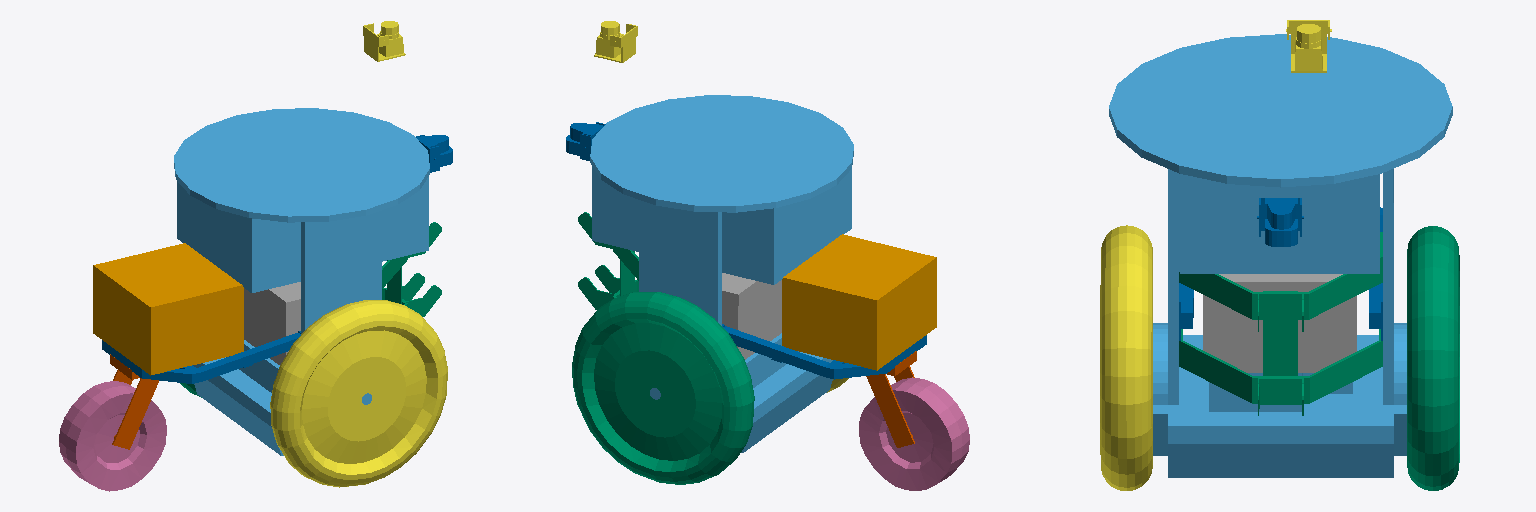
robot.urdf — base:
<?xml version="1.0"?>
<robot name="base"
       xmlns:sensor="http://playerstage.sourceforge.net/gazebo/xmlschema/#sensor" 
       xmlns:controller="http://playerstage.sourceforge.net/gazebo/xmlschema/#controller"
       xmlns:xacro="http://ros.org/wiki/fixme"
       xmlns:interface="http://playerstage.sourceforge.net/gazebo/xmlschema/#interface">>  

<!-- JOINT LIMIT VALUES FOR EFFORT AND VELOCITY NEED TO BE ADDED FOR REVOLUTE AND CONTINUOUS JOINTS -->

  <!-- base_footprint is a fictitious link(frame) that is on the ground right below base_link origin,
       navigation stack dedpends on this frame -->
  <link name="base_footprint">
    <inertial>
      <mass value="0.000001" />
      <origin xyz="0 0 0" />
      <inertia ixx="0.01" ixy="0.0" ixz="0.0"
               iyy="0.01" iyz="0.0" izz="0.01" />
    </inertial>
    <visual>
      <origin xyz="0 0 0" rpy="0 0 0" />
      <geometry>
        <box size="0.0 0.0 0.0" />
      </geometry>
      
      <material name="Green" />
    </visual>
    <collision>
      <!-- represent base collision with a simple rectangular model, positioned by base_size_z s.t. top
           surface of the collision box matches the top surface of the PR2 base -->
      <origin xyz="0 0 0" rpy="0 0 0" />
      <geometry>
        <box size="0.00 0.00 0.00" />
      </geometry>
    </collision>
  </link>

  <!-- Base -->

  <!-- Links -->
  <link name="base_link">        
    <inertial>
      <origin xyz="0 -0.3 0" rpy="0 0 0" />
      <mass value="90.72"/>
      <inertia ixx="1.2285"  ixy="0"  ixz="0" iyy="1.961064" iyz="0" izz="1.337364" />
    </inertial>

    <visual>
      <origin xyz="0 0 0" rpy="0 0 0" />
      <geometry name="segway_base_geom">
        <mesh filename="package://segway_robot/meshes/segway_base.stl" />
      </geometry>
      <material name="Blue" />
    </visual>    

    <collision>
      <origin xyz="0 0 0" rpy="0 0 0" />
      <geometry name="segway_base_collision_geom">
      <mesh filename="package://segway_robot/meshes/convex/segway_base_convex.stlb" />
      </geometry>
    </collision>

  </link>

  <link name="segway_left_wheel">        
    <inertial>
      <origin xyz="0 0 0" rpy="0 0 0" />
      <mass value="3.87"/>
      <inertia ixx="0.0852"  ixy="0"  ixz="0" iyy="0.0852" iyz="0" izz="0.1654" />
    </inertial>

    <visual>
      <origin xyz="0 0 0" rpy="0 0 0" />
      <geometry name="segway_left_wheel_geom">
        <mesh filename="package://segway_robot/meshes/segway_wheel.stl" />
      </geometry>
      <material name="Red" />
    </visual>    

    <collision>
      <origin xyz="0 0 0" rpy="0 0 0" />
      <geometry name="segway_left_wheel_collision_geom">
      	<cylinder radius="0.2365" length="0.093"/>
      </geometry>
    </collision>

  </link>

  <link name="segway_right_wheel">        
    <inertial>
      <origin xyz="0 0 0" rpy="0 0 0" />
      <mass value="3.87"/>
      <inertia ixx="0.0852"  ixy="0"  ixz="0" iyy="0.0852" iyz="0" izz="0.1654" />
    </inertial>

    <visual>
      <origin xyz="0 0 0" rpy="0 0 0" />
      <geometry name="segway_right_wheel_geom">
        <mesh filename="package://segway_robot/meshes/segway_wheel.stl"/>
      </geometry>
      <material name="Red" />
    </visual>    

    <collision>
      <origin xyz="0 0 0" rpy="0 0 0" />
      <geometry name="segway_right_wheel_collision_geom">
      	<cylinder radius="0.2365" length="0.093"/>
      </geometry>
    </collision>

  </link>

  <link name="segway_trailer">
    <inertial>
      <origin xyz="0.15 0.075 0" rpy="0 0 0" />
      <mass value="34.54"/>
      <inertia ixx="0.288"  ixy="0"  ixz="0" iyy="0.547" iyz="0" izz="0.446" />
    </inertial>

    <visual>
      <origin xyz="0 0 0" rpy="0 0 0" />
      <geometry name="segway_trailer-geom">	  
          <mesh filename="package://segway_robot/meshes/trailer.stl" />
      </geometry>
      <material name="Green" />
    </visual>

    <collision>
      <origin xyz="0 0 0" rpy="0 0 0" />
      <geometry name="segway_trailer_collision_geom">
        <mesh filename="package://segway_robot/meshes/convex/trailer_convex.stlb" />
      </geometry>
    </collision>

  </link>

  <link name="segway_trailer_wheel_caster">
    <inertial>
      <origin xyz="0 0 0" rpy="0 0 0" />
      <mass value="1.2"/>
      <inertia ixx="0.01"  ixy="0"  ixz="0" iyy="0.01" iyz="0" izz="0.01" />
    </inertial>

    <visual>
      <origin xyz="0 0 0" rpy="0 0 0" />
      <geometry name="segway_trailer_wheel_caster-geom">	  
          <mesh filename="package://segway_robot/meshes/trailer_wheel_caster.stl" />
      </geometry>
      <material name="Blue" />
    </visual>

    <collision>
      <origin xyz="0 0 0" rpy="0 0 0" />
      <geometry name="segway_trailer_wheel_caster_collision_geom">
        <mesh filename="package://segway_robot/meshes/convex/trailer_wheel_caster_convex.stlb" />
      </geometry>
    </collision>

  </link>

  <link name="segway_trailer_wheel">
    <inertial>
      <origin xyz="0 0 0" rpy="0 0 0" />
      <mass value="2.5"/>
      <inertia ixx="0.042"  ixy="0"  ixz="0" iyy="0.042" iyz="0" izz="0.082" />
    </inertial>

    <visual>
      <origin xyz="0 0 0" rpy="0 0 0" />
      <geometry name="segway_trailer_wheel-geom">	  
          <mesh filename="package://segway_robot/meshes/trailer_wheel.stl" />
      </geometry>
      <material name="Red" />
    </visual>

    <collision>
      <origin xyz="0 0 0" rpy="0 0 0" />
      <geometry name="segway_trailer_wheel_collision_geom">
        <!-- <mesh filename="package://segway_robot/meshes/convex/trailer_wheel_convex.stlb" /> -->
        <cylinder radius="0.1285" length="0.097"/>
      </geometry>
    </collision>

  </link>

  <link name="battery_one">        
    <inertial>
      <origin xyz="0 0 0" rpy="0 0 0" />
      <mass value="22.68"/>
      <inertia ixx="0.201"  ixy="0"  ixz="0" iyy="0.263" iyz="0" izz="0.182" />
    </inertial>

    <visual>
      <origin xyz="0 0 0" rpy="0 0 0" />
      <geometry name="battery_one_geom">
        <!-- <mesh filename="package://segway_robot/meshes/battery_one.stl" /> -->
	<box size = "0.254 0.178 0.273" />
      </geometry>
      <material name="Red" />
    </visual>    

    <collision>
      <origin xyz="0 0 0" rpy="0 0 0" />
      <geometry name="battery_one_collision_geom">
      	<!-- <mesh filename="package://segway_robot/meshes/convex/battery_one_convex.stlb" /> -->
	<box size = "0.254 0.178 0.273" />
      </geometry>
    </collision>

  </link>

  <link name="battery_two">        
    <inertial>
      <origin xyz="0 0 0" rpy="0 0 0" />
      <mass value="22.68"/>
      <inertia ixx="0.201"  ixy="0"  ixz="0" iyy="0.263" iyz="0" izz="0.182" />
    </inertial>

    <visual>
      <origin xyz="0 0 0" rpy="0 0 0" />
      <geometry name="battery_two_geom">
        <!-- <mesh filename="package://segway_robot/meshes/battery_two.stl" /> -->
	<box size = "0.254 0.178 0.273" />
      </geometry>
      <material name="Red" />
    </visual>    

    <collision>
      <origin xyz="0 0 0" rpy="0 0 0" />
      <geometry name="battery_two_collision_geom">
 	<!-- <mesh filename="package://segway_robot/meshes/convex/battery_two_convex.stlb" /> -->
	<box size = "0.254 0.178 0.273" />
      </geometry>
    </collision>

  </link>

  <link name="computer">        
    <inertial>
      <origin xyz="0 0 0" rpy="0 0 0" />
      <mass value="4.54"/>
      <inertia ixx="0.063"  ixy="0"  ixz="0" iyy="0.136" iyz="0" izz="0.103" />
    </inertial>

    <visual>
      <origin xyz="0 0 0" rpy="0 0 0" />
      <geometry name="computer_geom">
        <!-- <mesh filename="package://segway_robot/meshes/computer.stl" /> -->
	<box size = "0.484 0.198 0.356" />
      </geometry>
      <material name="Green" />
    </visual>    

    <collision>
      <origin xyz="0 0 0" rpy="0 0 0" />
      <geometry name="segway_base_collision_geom">
      	<!-- <mesh filename="package://segway_robot/meshes/convex/computer_convex.stlb" /> -->
	<box size = "0.484 0.198 0.356" />
      </geometry>
    </collision>

  </link>


  <link name="segway_laser_bracket">
    <inertial>
      <origin xyz="0 0 0" rpy="0 0 0" />
      <mass value="2.27"/>
      <inertia ixx="0.01"  ixy="0"  ixz="0" iyy="0.01" iyz="0" izz="0.01" />
    </inertial>

    <visual>
      <origin xyz="0 0 0" rpy="0 0 0" />
      <geometry name="segway_laser_bracket-geom">
          <mesh filename="package://segway_robot/meshes/laser_bracket.stl" />
      </geometry>
      <material name="Red" />
    </visual>

    <collision>
      <origin xyz="0 0 0" rpy="0 0 0" />
      <geometry name="segway_laser_bracket_collision_geom">
      <mesh filename="package://segway_robot/meshes/convex/laser_bracket_convex.stlb" />
      </geometry>
    </collision>

  </link>

  <link name="R283_hokuyo_laser1">
    <inertial>
      <origin xyz="-0.025 -0.017 0" rpy="0 0 0" />
      <mass value="0.37"/>
      <inertia ixx="0.0004"  ixy="0"  ixz="0" iyy="0.0004" iyz="0" izz="0.0004" />
    </inertial>

    <visual>
      <origin xyz="0 0 0" rpy="0 0 0" />
      <geometry name="R283_hokuyo_laser1-geom">
          <mesh filename="package://segway_robot/meshes/R283_hokuyo_laser1.stl" />
      </geometry>
      <material name="Blue" />
    </visual>

    <collision>
      <origin xyz="0 0 0" rpy="0 0 0" />
      <geometry name="R283_hokuyo_laser1_collision_geom">
      <mesh filename="package://segway_robot/meshes/convex/R283_hokuyo_laser1_convex.stlb" />
      </geometry>
    </collision>

  </link>

  <link name="R313_hokuyo_laser2">
    <inertial>
      <origin xyz="-0.023 0 0" rpy="3.14159 0 0" />
      <mass value="0.37"/>
      <inertia ixx="0.0004"  ixy="0"  ixz="0" iyy="0.0004" iyz="0" izz="0.0004" />
    </inertial>

    <visual>
      <origin xyz="0 0 0" rpy="3.14159 0 0" />
      <geometry name="R313_hokuyo_laser2-geom">
          <mesh filename="package://segway_robot/meshes/R313_hokuyo_laser2.stl" />
      </geometry>
      <material name="Blue" />
    </visual>

    <collision>
      <origin xyz="0 0 0" rpy="3.14159 0 0" />
      <geometry name="R283_hokuyo_laser1_collision_geom">
      <mesh filename="package://segway_robot/meshes/convex/R313_hokuyo_laser2_convex.stlb" />
      </geometry>
    </collision>

  </link>

  <!-- Joints -->

  <joint name="base_footprint_joint" type="fixed">
    <origin xyz="0 0 0.55" rpy="1.57 0 3.14" />
    <child link="base_link" />
    <parent link="base_footprint"/>
  </joint>
  
  <joint name="segway_left_wheel_joint" type="continuous" >
    <origin xyz="-0.031 -0.353 0.272" rpy="0 0 0"/>
    <axis xyz="0 0 1"/>
    <limit effort="122" velocity="500"/>
    <parent link="base_link" />
    <child link="segway_left_wheel" />
    <calibration reference_position="0.0"/>
  </joint>

  <joint name="segway_right_wheel_joint" type="continuous" >
    <origin xyz="-0.031 -0.353 -0.272" rpy="0 3.14 0"/>    
    <axis xyz="0 0 1"/>
    <limit effort="122" velocity="500"/>
    <parent link="base_link" />
    <child link="segway_right_wheel" />
    <calibration reference_position="0.0"/>
  </joint>

  <joint name="segway_trailer_joint" type="fixed">    
    <origin xyz="0.162 -0.233 0.002" rpy="0 0 0" />
    <parent link="base_link" />
    <child link="segway_trailer" />
    <calibration reference_position="0.0"/>
  </joint>

  <joint name="segway_trailer_wheel_caster_joint" type="continuous">    
    <origin xyz="0.244 -0.038 0.002" rpy="0 0 0" />
    <axis xyz="0 1 0"/>
    <parent link="segway_trailer" />
    <child link="segway_trailer_wheel_caster" />
    <calibration reference_position="0.0"/>
  </joint>

  <joint name="segway_trailer_wheel_joint" type="continuous">    
    <origin xyz="0.076 -0.187 0.002" rpy="0 0 0" />
    <axis xyz="0 0 1"/>
    <parent link="segway_trailer_wheel_caster" />
    <child link="segway_trailer_wheel" />
    <calibration reference_position="0.0"/>
  </joint>

  <joint name="battery_one_joint" type="fixed">    
    <origin xyz="-0.037 -0.231 0" rpy="0 0 0" />
    <parent link="base_link" />
    <child link="battery_one" />
    <calibration reference_position="0.0"/>
  </joint>

  <joint name="battery_two_joint" type="fixed">    
    <origin xyz="0.171 0.074 0" rpy="0 0 0" />
    <parent link="segway_trailer" />
    <child link="battery_two" />
    <calibration reference_position="0.0"/>
  </joint>

  <joint name="computer_joint" type="fixed">    
    <origin xyz="-0.033 0.025 0" rpy="0 0 0" />
    <parent link="base_link" />
    <child link="computer" />
    <calibration reference_position="0.0"/>
  </joint>

  <joint name="segway_laser_bracket_joint" type="fixed">    
    <origin xyz="-0.213 -0.2 0.002" rpy="0 0 0" />
    <parent link="base_link" />
    <child link="segway_laser_bracket" />
    <calibration reference_position="0.0"/>
  </joint>

  <joint name="R283_hokuyo_laser1_joint" type="revolute">    
    <!-- <origin xyz="-0.162 -0.062 0" rpy="0 0 0" /> -->
    <origin xyz="-0.052 0.598 0.05" rpy="0 0 0" /> 
    <axis xyz="0 0 1"/>
    <limit lower="-1.047" upper="1.047" effort="50" velocity="50"/>
    <parent link="segway_laser_bracket" />
    <child link="R283_hokuyo_laser1" />
    <calibration reference_position="0.0"/>
  </joint>

  <joint name="R313_hokuyo_laser2_joint" type="revolute">    
    <origin xyz="-0.162 0.283 0" rpy="3.14159 0 0" />
    <axis xyz="0 0 1"/>
    <limit lower="-1.047" upper="1.047" effort="50" velocity="50"/>
    <parent link="segway_laser_bracket" />
    <child link="R313_hokuyo_laser2" />
    <calibration reference_position="0.0"/>
  </joint>

  <!-- Gazebo uses this to color -->

  <gazebo reference="base_link">
    <material value="Gazebo/Blue"/>
    <turnGravityOff>false</turnGravityOff>
  </gazebo>

  <gazebo reference="segway_left_wheel">
    <material value="Gazebo/Red"/>
    <turnGravityOff>false</turnGravityOff>
  </gazebo>

  <gazebo reference="segway_right_wheel">
    <material value="Gazebo/Red"/>
    <turnGravityOff>false</turnGravityOff>
  </gazebo>

  <gazebo reference="segway_trailer">
    <material value="Gazebo/Green"/>
    <turnGravityOff>false</turnGravityOff>
  </gazebo>

  <gazebo reference="segway_trailer_wheel_caster">
    <material value="Gazebo/Blue"/>
    <turnGravityOff>false</turnGravityOff>
  </gazebo>

  <gazebo reference="segway_trailer_wheel">
    <material value="Gazebo/Red"/>
    <turnGravityOff>false</turnGravityOff>
  </gazebo>

  <gazebo reference="battery_one">
    <material value="Gazebo/Red"/>
    <turnGravityOff>false</turnGravityOff>
  </gazebo>

  <gazebo reference="battery_two">
    <material value="Gazebo/Red"/>
    <turnGravityOff>false</turnGravityOff>
  </gazebo>

  <gazebo reference="computer">
    <material value="Gazebo/Green"/>
    <turnGravityOff>false</turnGravityOff>
  </gazebo>

  <gazebo reference="segway_laser_bracket">
    <material value="Gazebo/Green"/>
    <turnGravityOff>false</turnGravityOff>
  </gazebo>

  <gazebo reference="R283_hokuyo_laser1">
    <material value="Gazebo/Red"/>
    <turnGravityOff>false</turnGravityOff>
  </gazebo>

  <gazebo reference="R313_hokuyo_laser2">
    <material value="Gazebo/Red"/>
    <turnGravityOff>false</turnGravityOff>
  </gazebo>

  <!-- Transmits the joints -->

  <transmission name="segway_left_wheel_trans" type="SimpleTransmission">
    <actuator name="segway_left_wheel_motor"/>
    <joint name="segway_left_wheel_joint"/>
    <mechanicalReduction>1.0</mechanicalReduction>
  </transmission>

  <transmission name="segway_right_wheel_trans" type="SimpleTransmission">
    <actuator name="segway_right_wheel_motor"/>
    <joint name="segway_right_wheel_joint"/>
    <mechanicalReduction>1.0</mechanicalReduction>
  </transmission>

  <transmission name="segway_trailer_wheel_caster_trans" type="SimpleTransmission">
    <actuator name="segway_trailer_wheel_caster_motor"/>
    <joint name="segway_trailer_wheel_caster_joint"/>
    <mechanicalReduction>1.0</mechanicalReduction>
  </transmission>

  <transmission name="segway_trailer_wheel_trans" type="SimpleTransmission">
    <actuator name="segway_trailer_wheel_motor"/>
    <joint name="segway_trailer_wheel_joint"/>
    <mechanicalReduction>1.0</mechanicalReduction>
  </transmission>

  <transmission name="R283_hokuyo_laser1_trans" type="SimpleTransmission">
    <actuator name="R283_hokuyo_laser1_motor"/>
    <joint name="R283_hokuyo_laser1_joint"/>
    <mechanicalReduction>1.0</mechanicalReduction>
  </transmission>

  <transmission name="R313_hokuyo_laser2_trans" type="SimpleTransmission">
    <actuator name="R313_hokuyo_laser2_motor"/>
    <joint name="R313_hokuyo_laser2_joint"/>
    <mechanicalReduction>1.0</mechanicalReduction>
  </transmission>

  <gazebo>
    <controller:gazebo_ros_p3d name="p3d_base_controller" plugin="libgazebo_ros_p3d.so">
      <alwaysOn>true</alwaysOn>
      <updateRate>100.0</updateRate>
      <bodyName>base_footprint</bodyName>
      <topicName>base_pose_ground_truth</topicName>
      <gaussianNoise>0.01</gaussianNoise>
      <frameName>map</frameName>
      <xyzOffsets>25.7 25.7 0</xyzOffsets> <!-- initialize odometry for fake localization-->
      <rpyOffsets>0 0 0</rpyOffsets>
      <interface:position name="p3d_base_position"/>
    </controller:gazebo_ros_p3d>
    <canonicalBody>base_footprint</canonicalBody>
  </gazebo>

</robot>

--- Render facts (derived) ---
Views: 3 orthographic renders of the robot side by side, from view 1: azimuth 30°, elevation 25°; view 2: azimuth 150°, elevation 25°; view 3: azimuth 270°, elevation 25°.
Model base with 13 links and 12 joints (2 revolute, 4 continuous, 6 fixed), rooted at base_footprint, posed all joints at 0.
Visible links, largest first — view 1: base_link, segway_right_wheel, battery_two, computer, segway_trailer_wheel, battery_one, segway_trailer, segway_laser_bracket, segway_trailer_wheel_caster, R283_hokuyo_laser1, R313_hokuyo_laser2; view 2: base_link, segway_left_wheel, battery_two, computer, segway_trailer_wheel, battery_one, segway_trailer, segway_laser_bracket, segway_trailer_wheel_caster, R283_hokuyo_laser1, R313_hokuyo_laser2; view 3: base_link, computer, segway_left_wheel, segway_right_wheel, segway_laser_bracket, battery_one, R283_hokuyo_laser1, R313_hokuyo_laser2, segway_trailer.
Boxes of the visible links, bbox=[...] form: base_link: bbox=[174, 108, 429, 455]; segway_right_wheel: bbox=[270, 300, 447, 487]; battery_two: bbox=[93, 243, 243, 375]; computer: bbox=[177, 177, 428, 292]; segway_trailer_wheel: bbox=[59, 381, 166, 491]; battery_one: bbox=[244, 282, 300, 364]; segway_trailer: bbox=[102, 331, 300, 383]; segway_laser_bracket: bbox=[382, 222, 441, 316]; segway_trailer_wheel_caster: bbox=[110, 354, 158, 449]; R283_hokuyo_laser1: bbox=[363, 21, 405, 61]; R313_hokuyo_laser2: bbox=[416, 135, 452, 172]; base_link: bbox=[590, 95, 853, 452]; segway_left_wheel: bbox=[572, 292, 754, 484]; battery_two: bbox=[782, 234, 936, 370]; computer: bbox=[592, 166, 851, 284]; segway_trailer_wheel: bbox=[859, 377, 969, 490]; battery_one: bbox=[722, 273, 781, 359]; segway_trailer: bbox=[722, 324, 926, 379]; segway_laser_bracket: bbox=[578, 212, 638, 309]; segway_trailer_wheel_caster: bbox=[866, 351, 916, 447]; R283_hokuyo_laser1: bbox=[594, 21, 637, 62]; R313_hokuyo_laser2: bbox=[566, 122, 605, 160]; base_link: bbox=[1109, 34, 1452, 477]; computer: bbox=[1179, 174, 1379, 273]; segway_left_wheel: bbox=[1407, 226, 1459, 490]; segway_right_wheel: bbox=[1100, 225, 1152, 490]; segway_laser_bracket: bbox=[1179, 232, 1382, 415]; battery_one: bbox=[1203, 274, 1356, 372]; R283_hokuyo_laser1: bbox=[1286, 20, 1331, 72]; R313_hokuyo_laser2: bbox=[1257, 198, 1303, 246]; segway_trailer: bbox=[1179, 207, 1382, 340].
Bounding box of the posed robot: 1.05 × 0.6381 × 1.01 m (x, y, z).
Meshes: 8 distinct files referenced, 9 mesh visuals loaded (8 binary STL).
